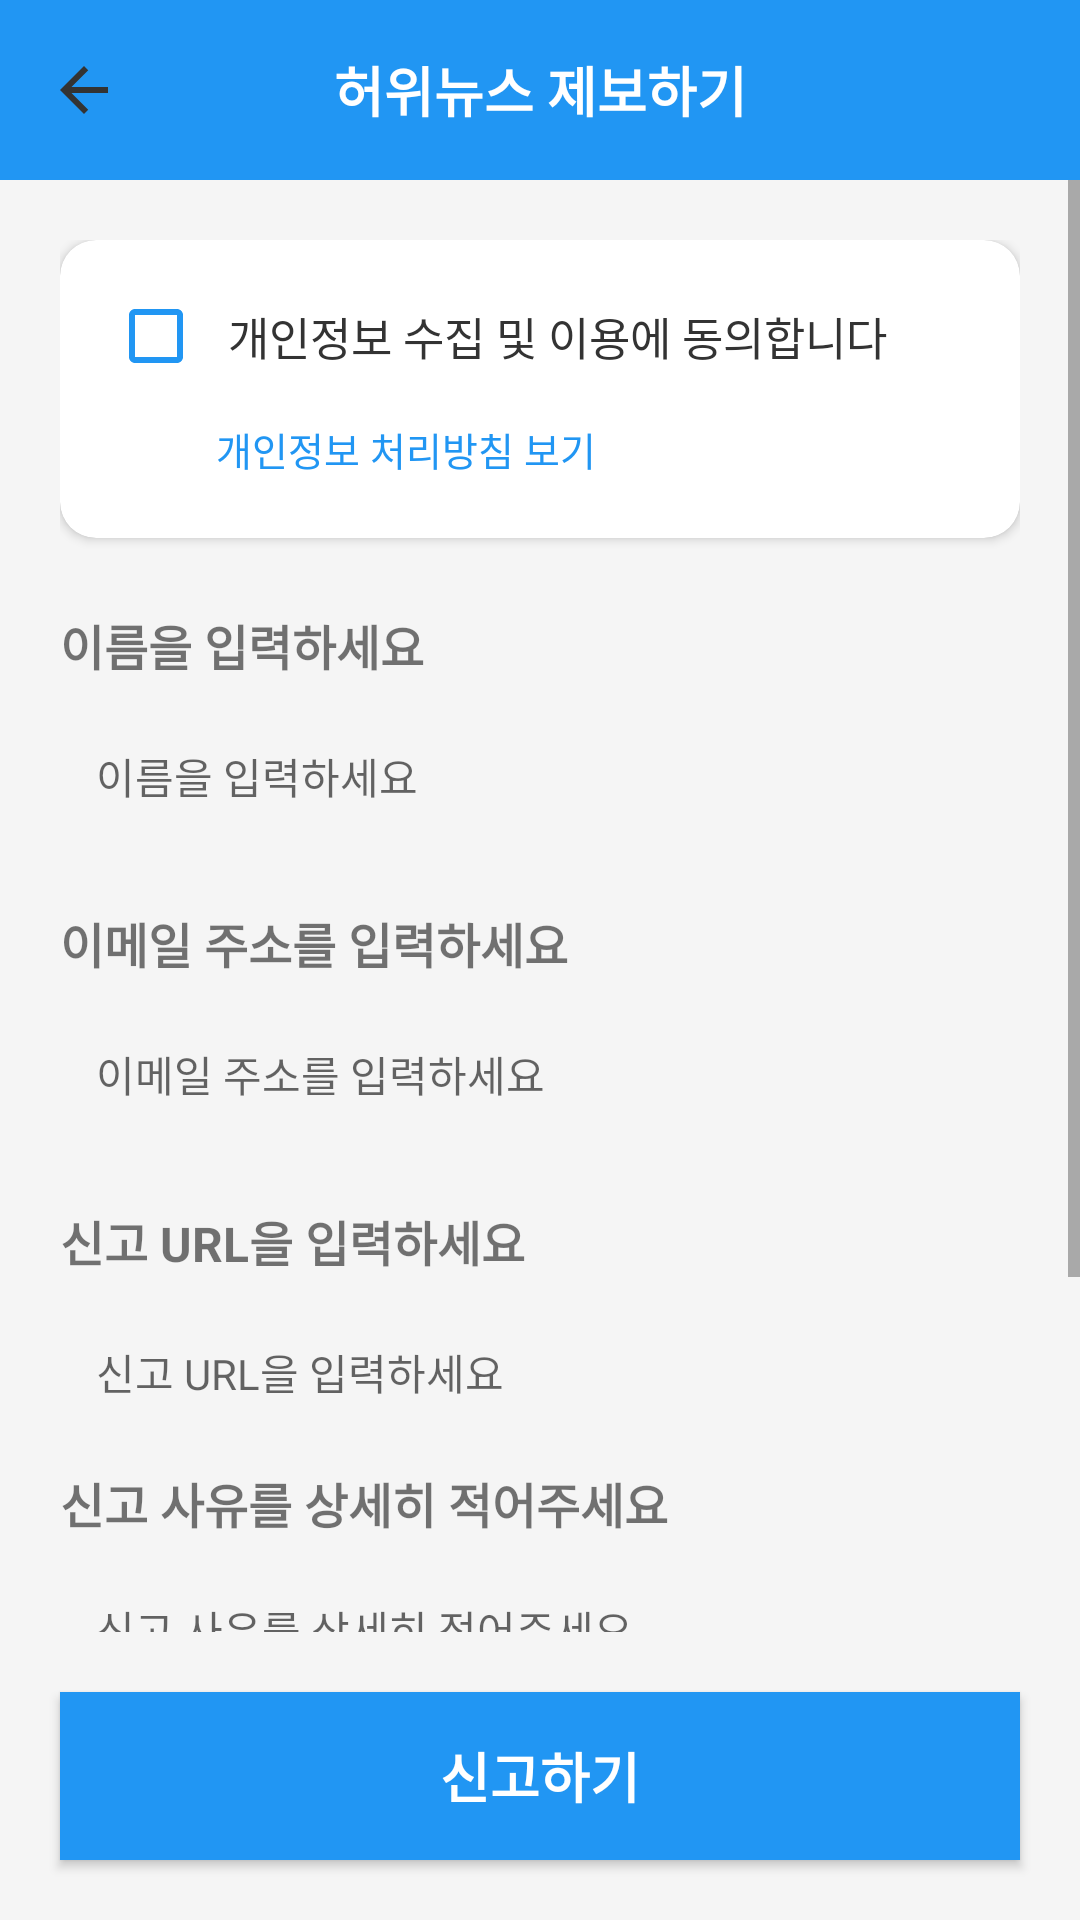

Point at icon controls on the screen. Image size 1080 x 1920, points as (x,y).
arrow back: (84,90)
